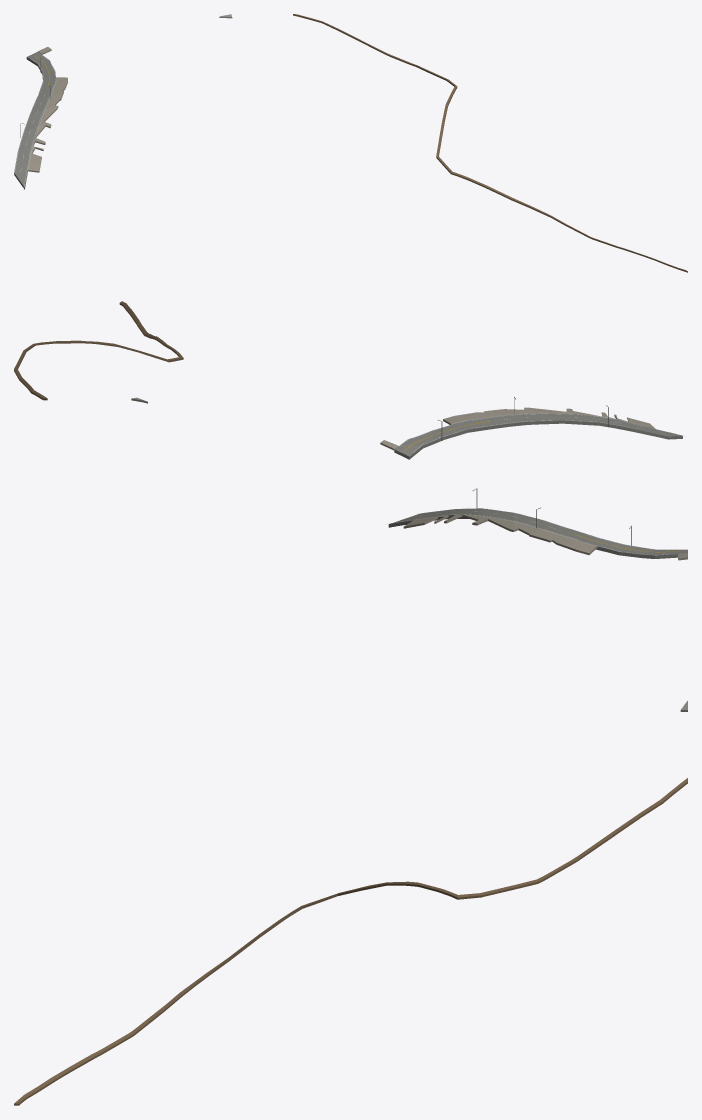
Rendered from 17-109459-59451.dccbcd74.glb.
3 views of the same model, one above another, from view 1: azimuth 30°, elevation 25°; view 2: azimuth 150°, elevation 25°; view 3: azimuth 270°, elevation 25° (orthographic). The views are drawn at different scales.
Bounding box in the file's own units: 295 × 89.28 × 212.
